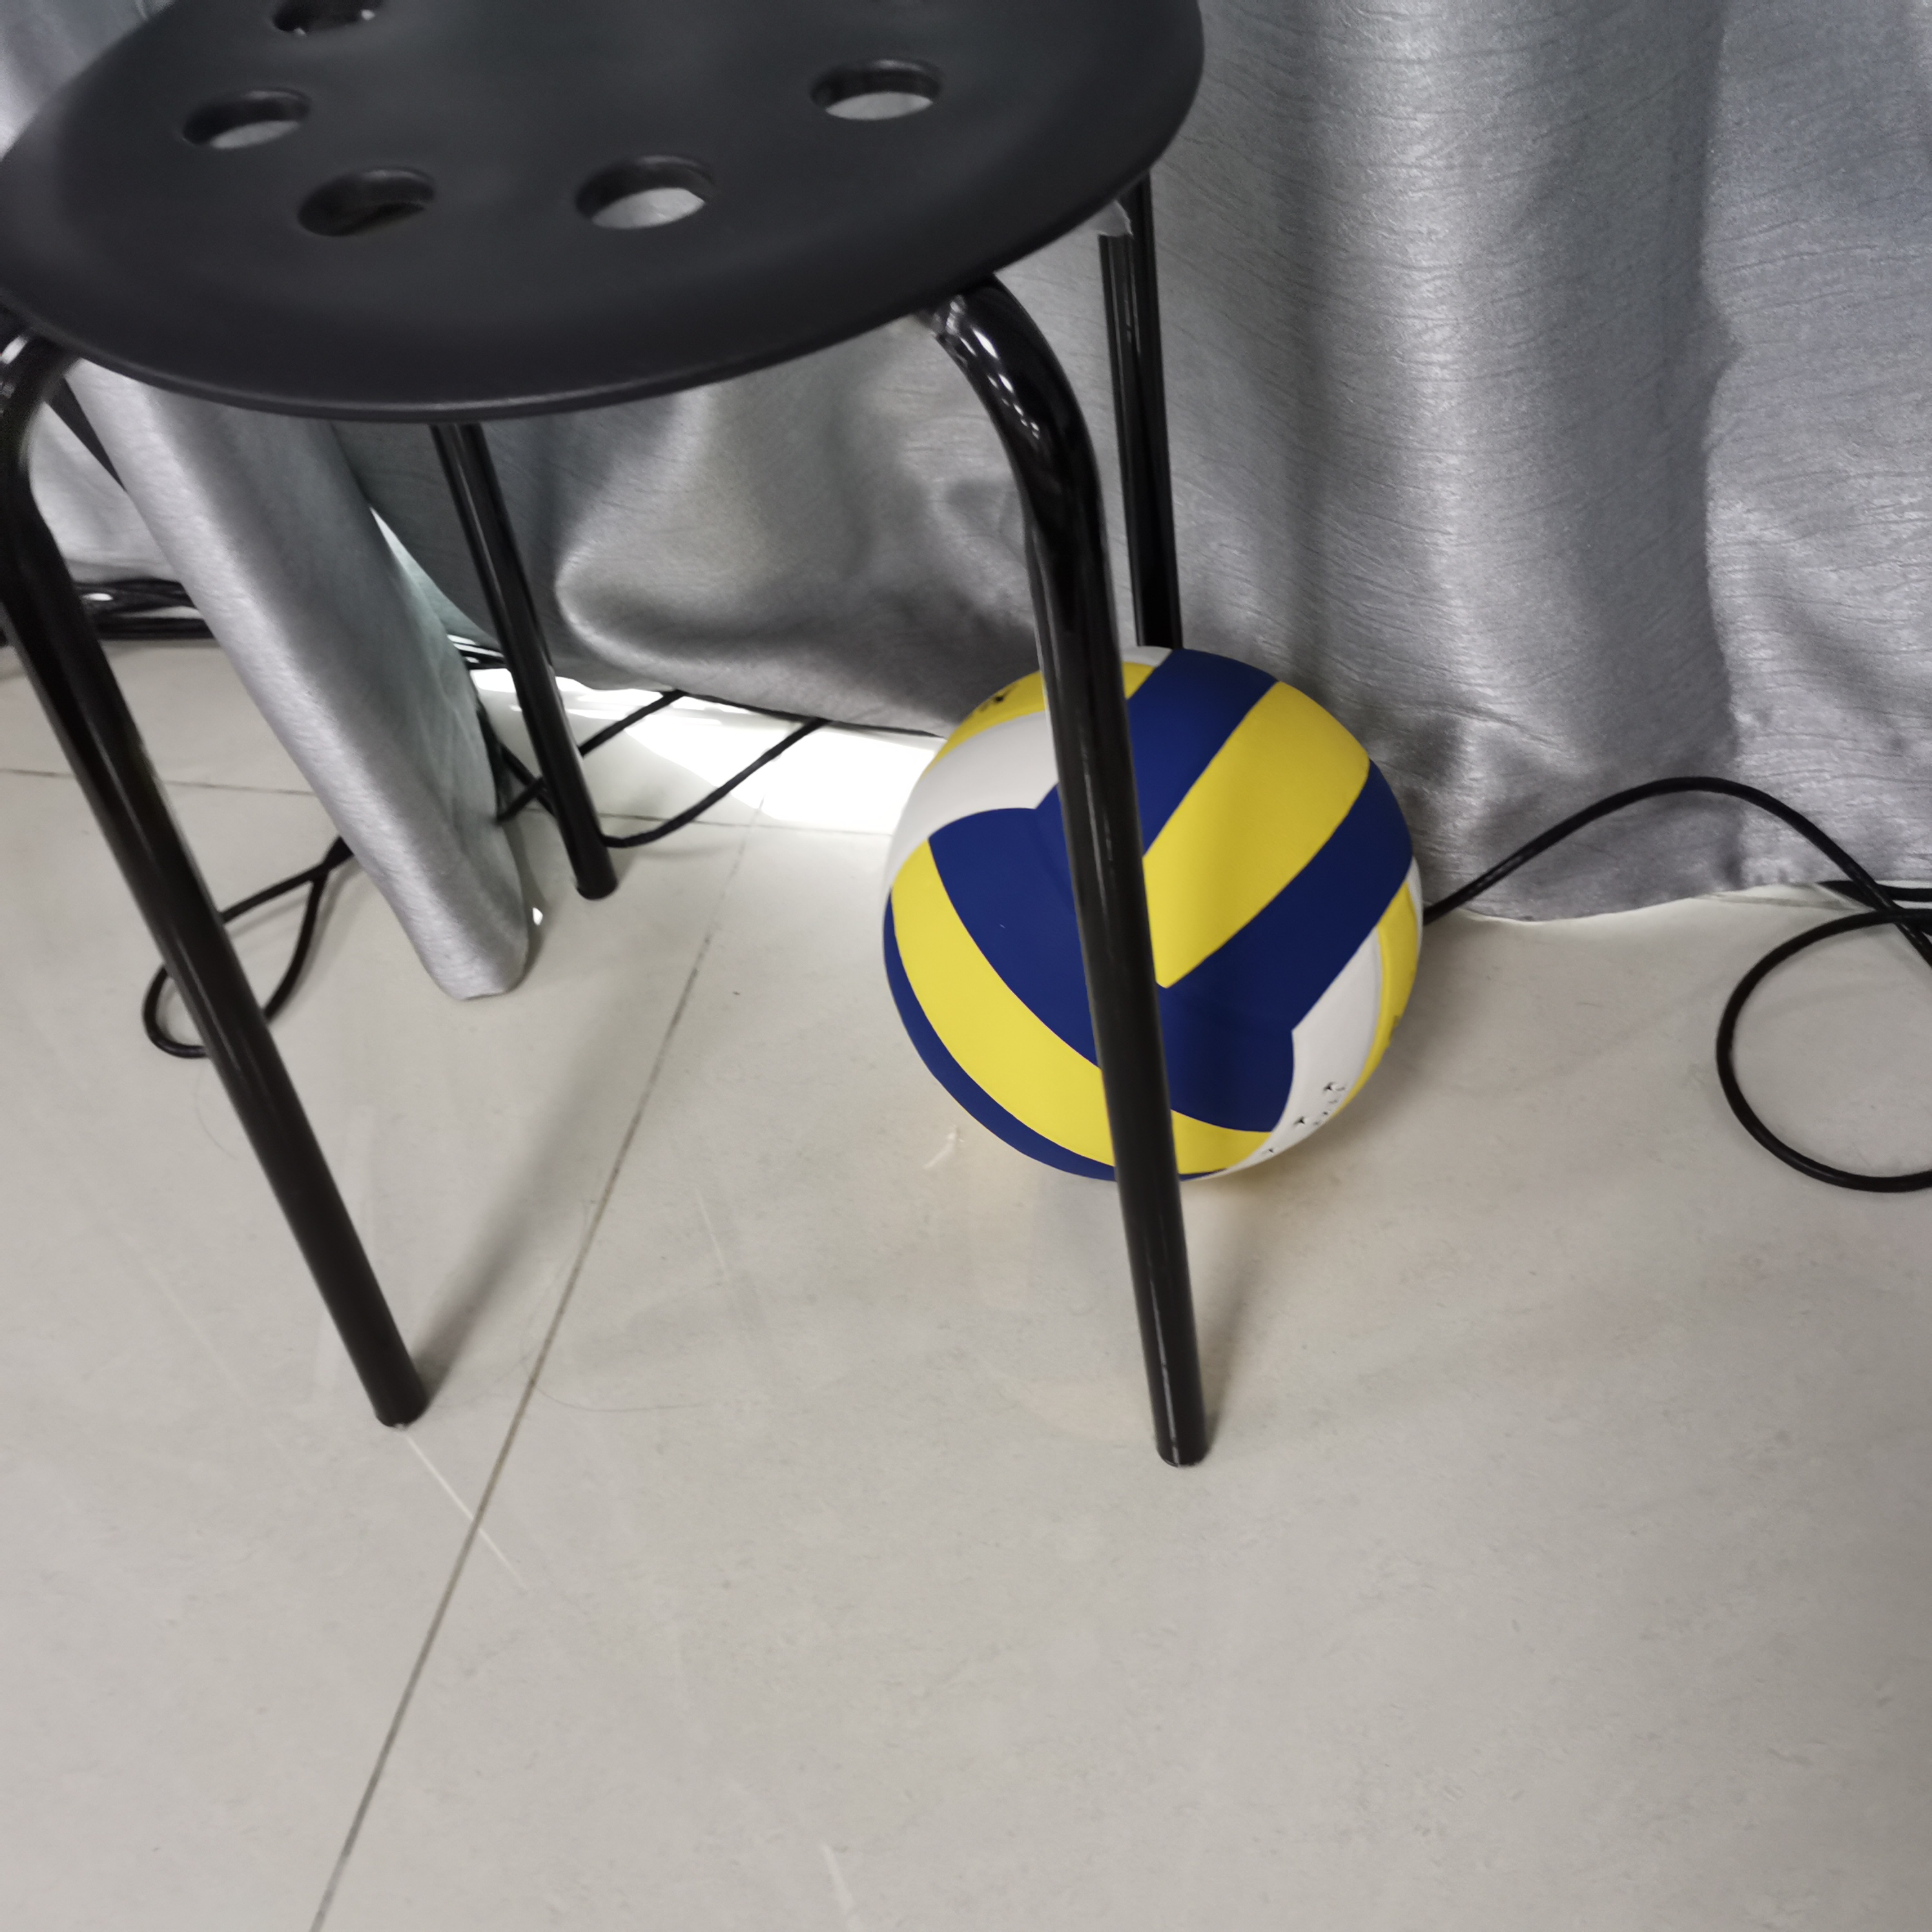volleyball: (878, 644, 1426, 1180)
